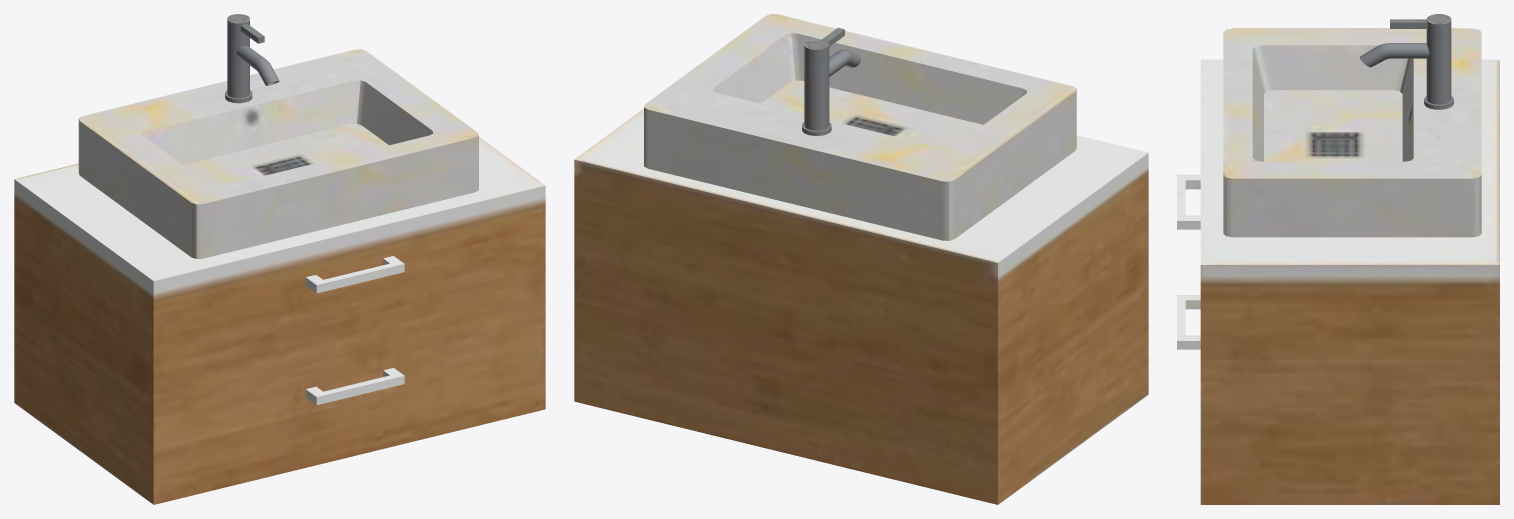
Rendered from vanity-sink.gltf.
The picture shows the model from 3 angles, left to right: view 1: azimuth 30°, elevation 25°; view 2: azimuth 150°, elevation 25°; view 3: azimuth 270°, elevation 25°; orthographic projection. The views are drawn at different scales.
Parts seen in each view (by area): view 1: Floating_Vanity_Ceramic_Sink; view 2: Floating_Vanity_Ceramic_Sink; view 3: Floating_Vanity_Ceramic_Sink.
Part boxes in pixels (bbox=[...]): Floating_Vanity_Ceramic_Sink: bbox=[14, 14, 545, 504]; Floating_Vanity_Ceramic_Sink: bbox=[574, 14, 1148, 504]; Floating_Vanity_Ceramic_Sink: bbox=[1177, 14, 1499, 504].
Size of the model in its own units: 0.7597 by 0.6614 by 0.505.
1 material, 1 textured.
